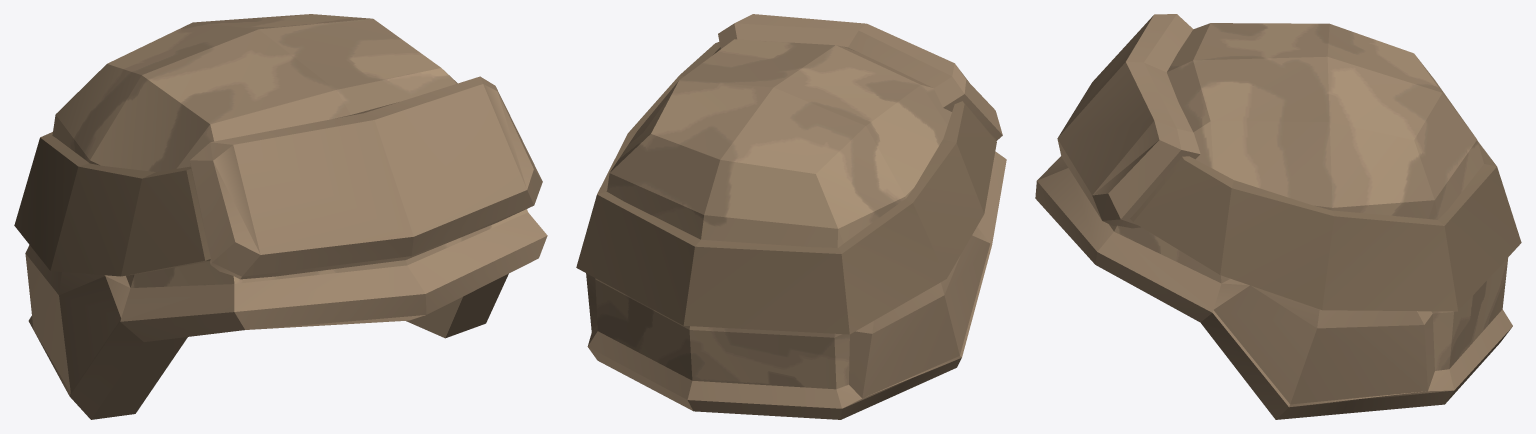
File: Helmet_02_01_SM.FBX
The picture shows the model from 3 angles, left to right: view 1: azimuth 30°, elevation 25°; view 2: azimuth 150°, elevation 25°; view 3: azimuth 270°, elevation 25°; orthographic projection. The views are drawn at different scales.
Visible parts, largest first — view 1: Helmet_02_01_SM; view 2: Helmet_02_01_SM; view 3: Helmet_02_01_SM.
Part boxes in pixels (x1,y1,x2,y2): Helmet_02_01_SM: (14, 14, 547, 419); Helmet_02_01_SM: (576, 14, 1006, 419); Helmet_02_01_SM: (1035, 14, 1521, 419).
Size of what is drawn, in the model's own units: 26.7 by 30.52 by 19.83.
